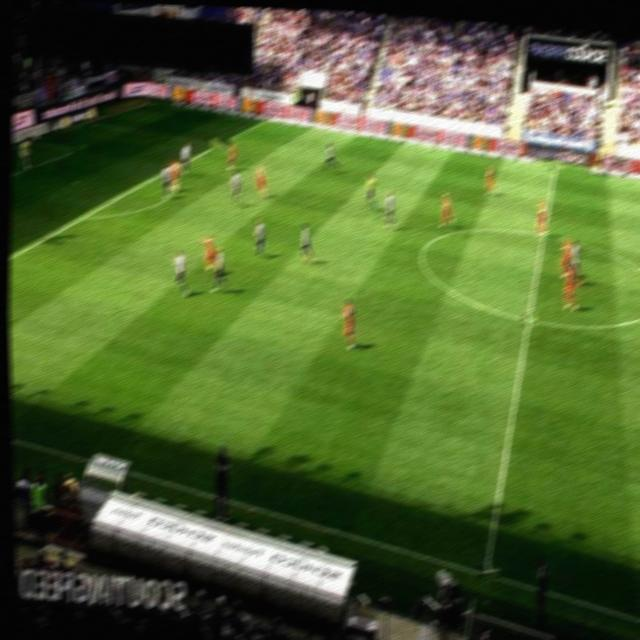bigarea_top_inner: (210, 137, 231, 153)
bigarea_top_outter: (81, 116, 97, 129)
bottom_arc_area_intersection: (75, 210, 90, 223)
corner: (142, 96, 157, 110)
halfcircle_bottom: (519, 312, 538, 329)
halfcircle_top: (535, 228, 553, 241)
midline_bottom_intersection: (474, 565, 500, 586)
midline_top_intersection: (547, 161, 563, 175)
smallarea_top_inner: (71, 144, 87, 157)
smallarea_top_outter: (24, 135, 39, 148)
top_arc_area_intersection: (156, 168, 171, 181)
